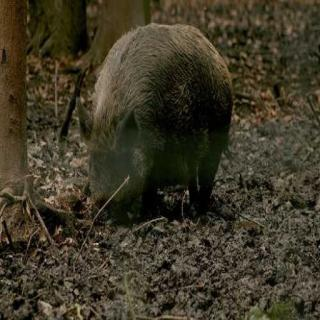Pig: (51, 0, 246, 221)
